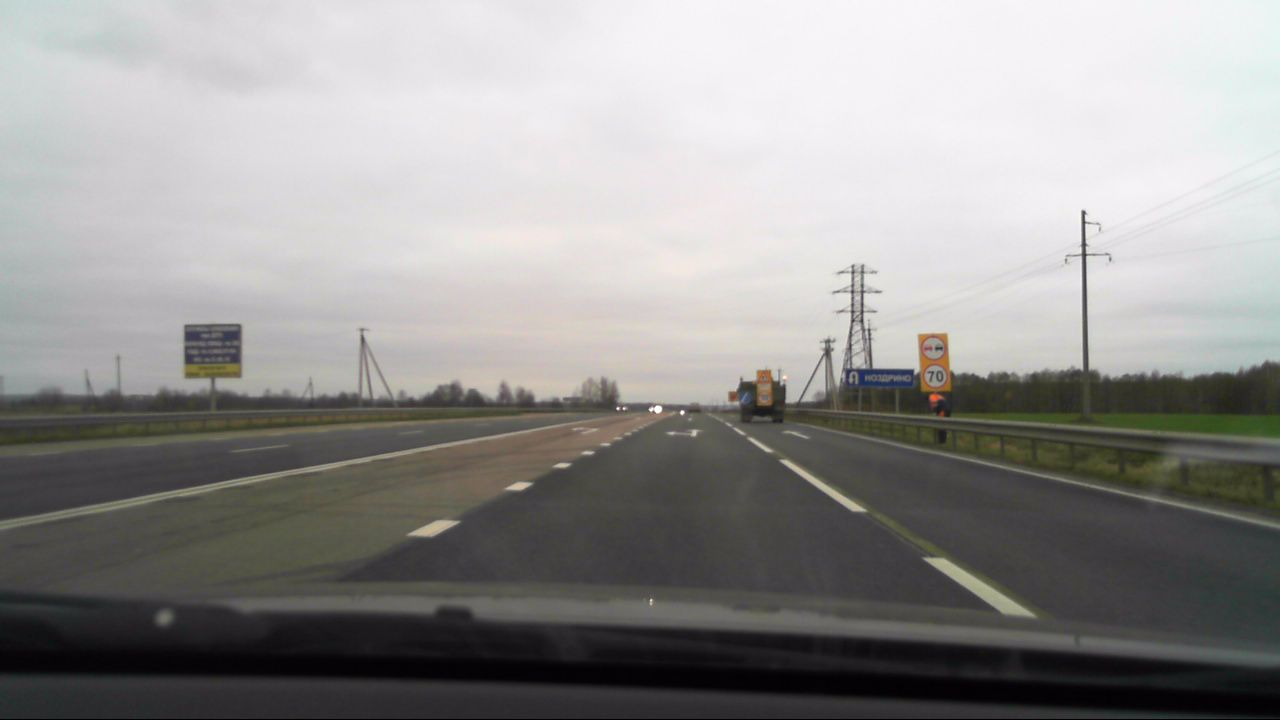U-turn: (845, 369, 862, 387)
